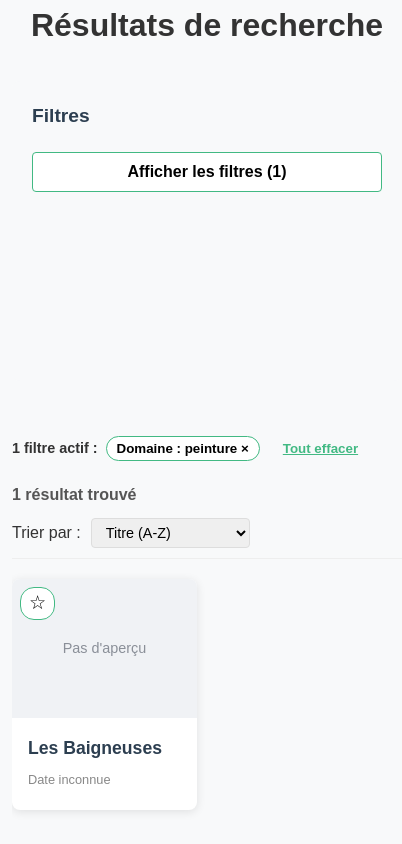
Test: SearchView : filtres avancés › sur petit écran › déplie et replie les filtres à la demande, en annonçant l'état et le nombre de filtres actifs
Click the button with test id "filters-toggle" at (207, 172), box [32, 152, 382, 192]
(page scrolled)
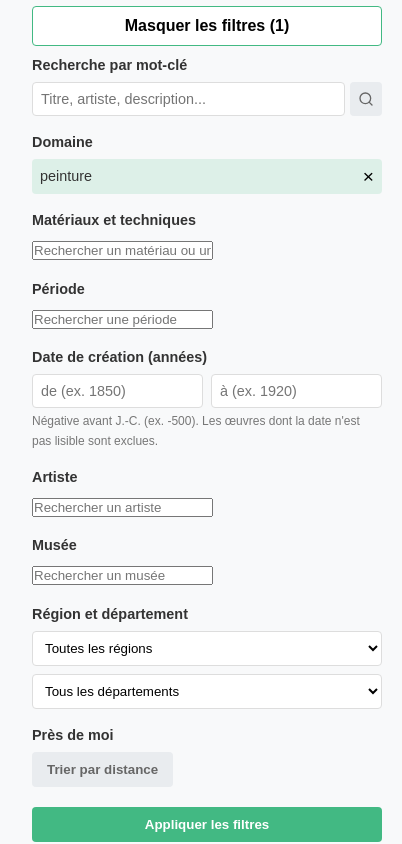
Result: the button with test id "filters-toggle" is expanded at [32, 6, 382, 46]
Result: the button with test id "filters-toggle" reads "Masquer les filtres (1)" at [32, 6, 382, 46]
